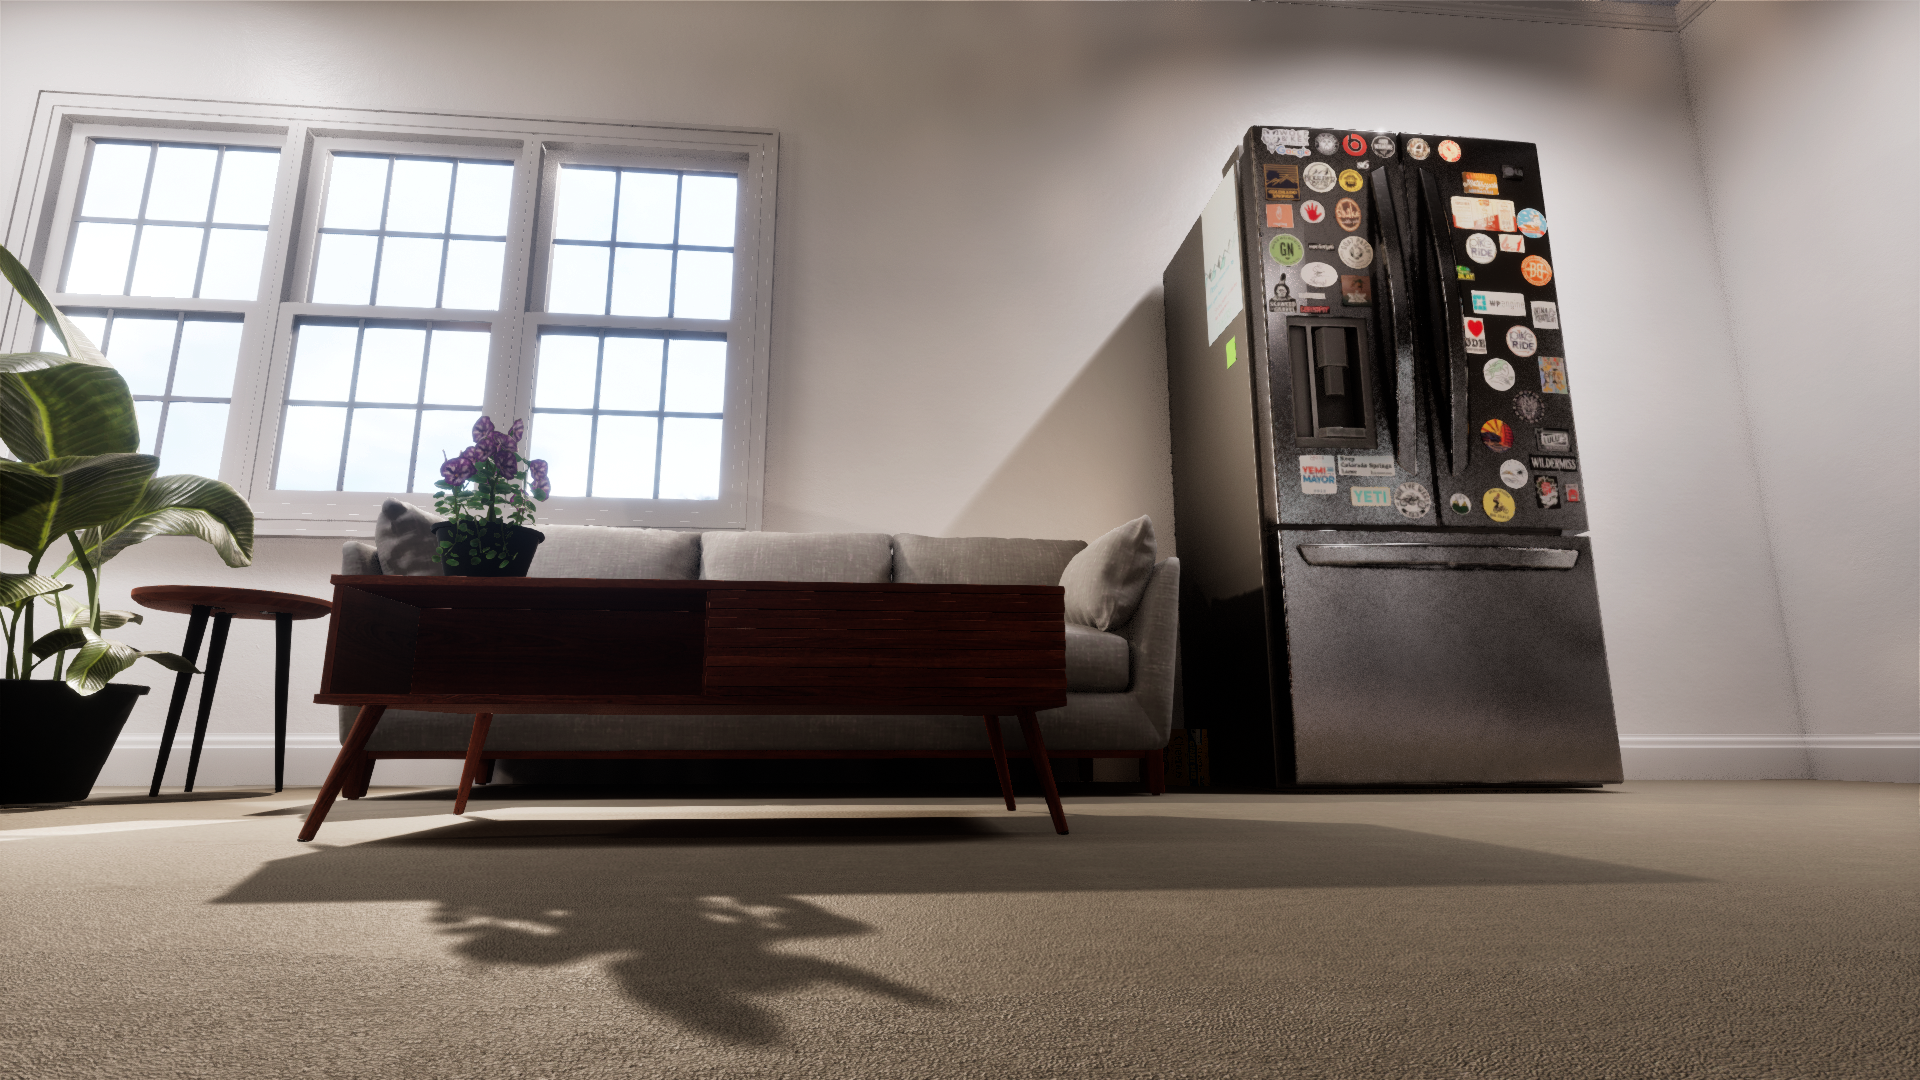cheerios: (1139, 729, 1210, 787)
soup: (1019, 766, 1041, 786)
